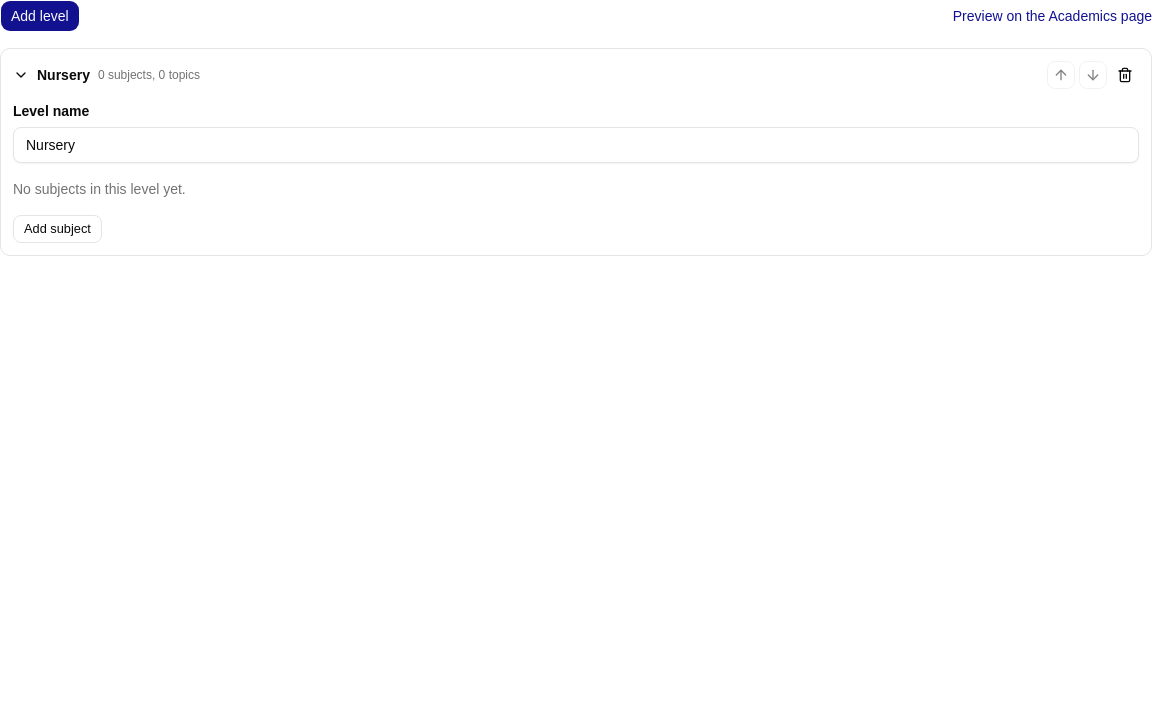
Test: SyllabusEditor (014b) › adds a subject and a group inside the open level
What coordinates should you click on to do the following:
click the button "Add subject"
I would click on:
 (57, 229)
Its box is x1=13 y1=215 x2=102 y2=243.
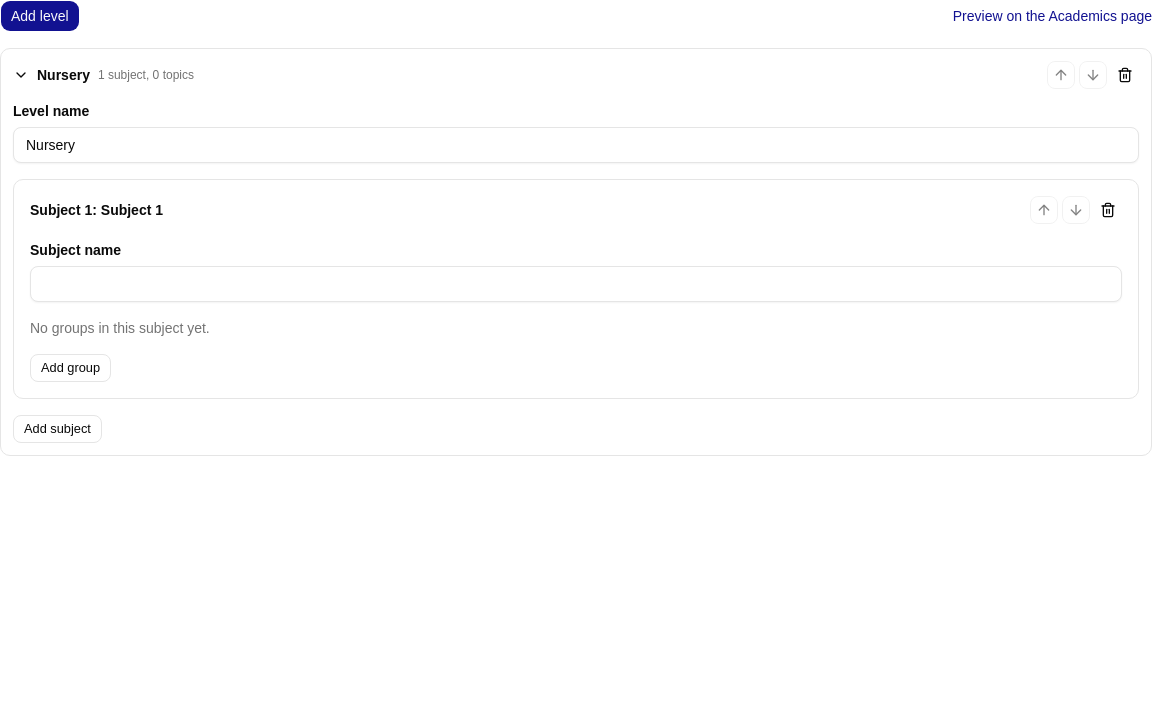
What coordinates should you click on to do the following:
click the button "Add group"
I would click on:
 (71, 368)
Its box is x1=30 y1=354 x2=111 y2=382.
(page scrolled)
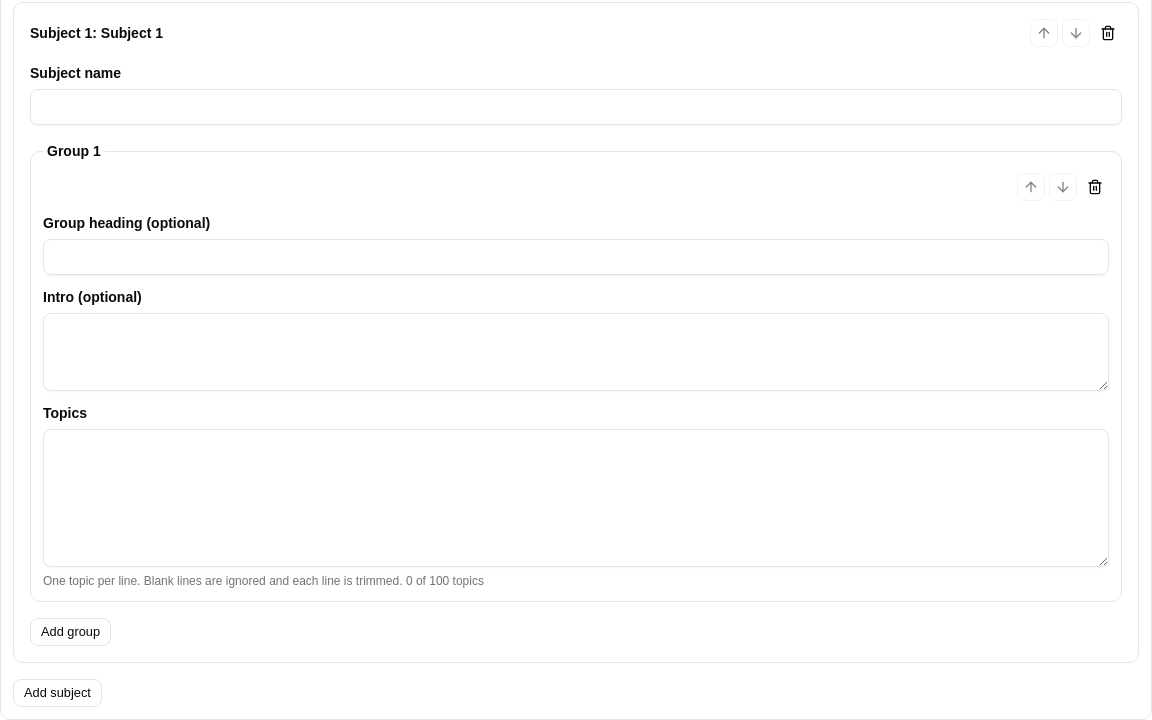
Now the field labelled "Group heading (optional)" is shown, box x1=43 y1=239 x2=1109 y2=275
Now the text box labelled "Intro (optional)" is shown, box x1=43 y1=313 x2=1109 y2=391
Now the text box labelled "Topics" is shown, box x1=43 y1=429 x2=1109 y2=567
